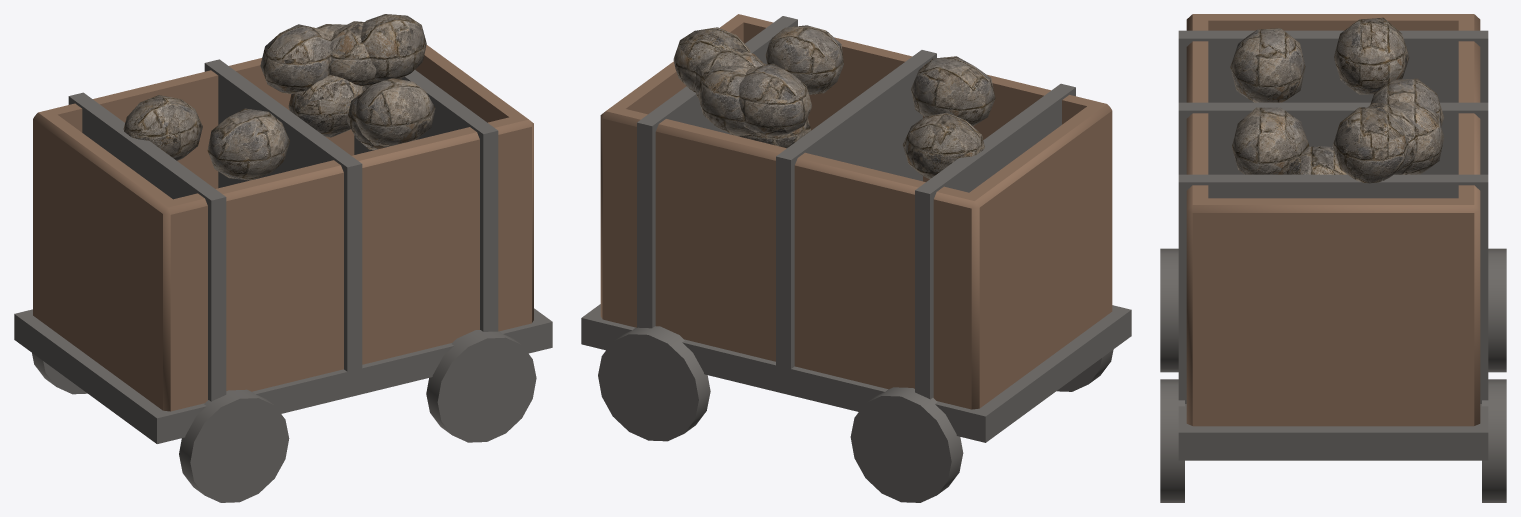
The model's file is ore-cart-v01.glb.
3 views of the same model, side by side, from view 1: azimuth 30°, elevation 25°; view 2: azimuth 150°, elevation 25°; view 3: azimuth 270°, elevation 25° (orthographic). The views are drawn at different scales.
Parts seen in each view (by area): view 1: ore-cart; view 2: ore-cart; view 3: ore-cart.
Boxes of the visible parts, <box> form: ore-cart: <box>14,14,552,502</box>; ore-cart: <box>581,14,1131,502</box>; ore-cart: <box>1160,14,1506,502</box>.
Size of the model in its own units: 1.6 by 1.38 by 1.12.
Materials: 3 (1 with a texture image).
